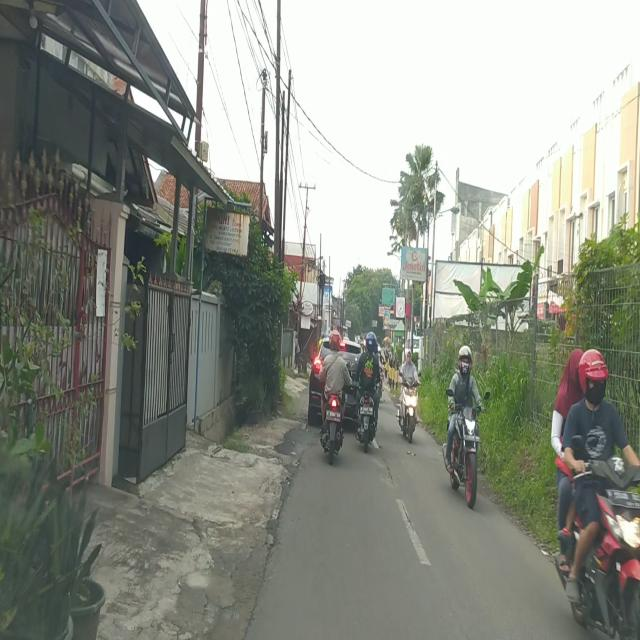Drain Hole: (377, 442, 393, 483), (398, 492, 414, 530)
